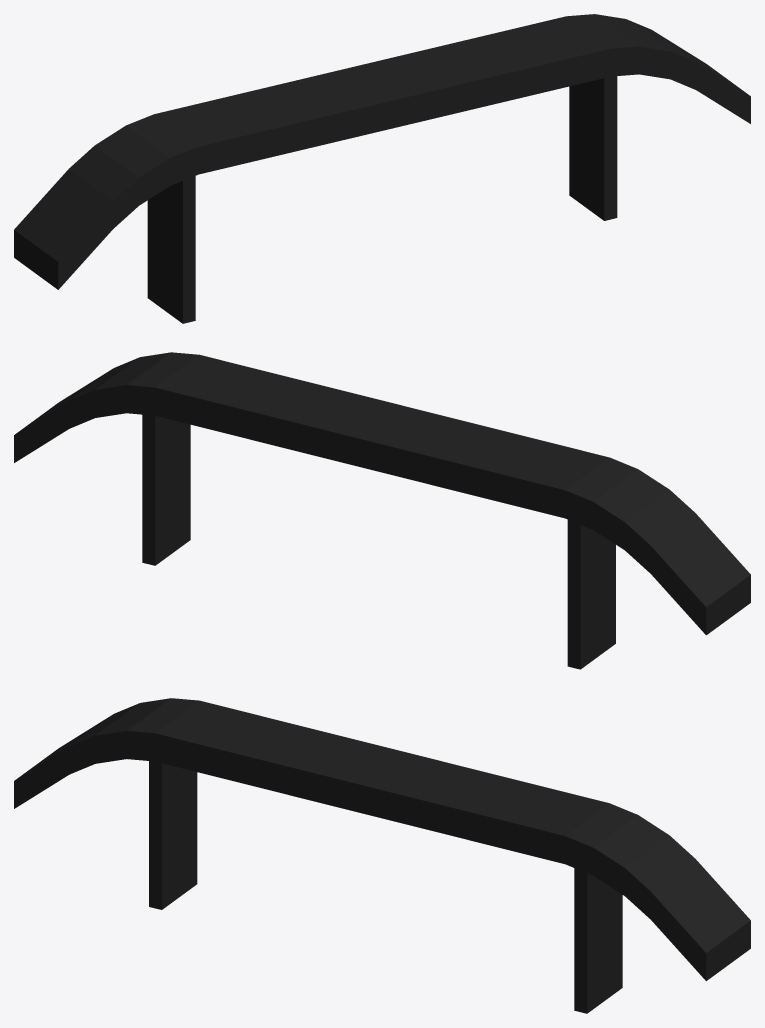
File: spoiler3.glb
The picture shows the model from 3 angles, top to bottom: view 1: azimuth 30°, elevation 25°; view 2: azimuth 150°, elevation 25°; view 3: azimuth 330°, elevation 25°; orthographic projection.
Parts seen in each view (by area): view 1: spoiler3; view 2: spoiler3; view 3: spoiler3.
Part boxes in pixels (x1,y1,x2,y2): spoiler3: (14,14,750,323); spoiler3: (14,352,750,669); spoiler3: (14,698,750,1013).
Size of the model in its own units: 2.82 by 0.697 by 0.3376.
1 material, 1 textured.
